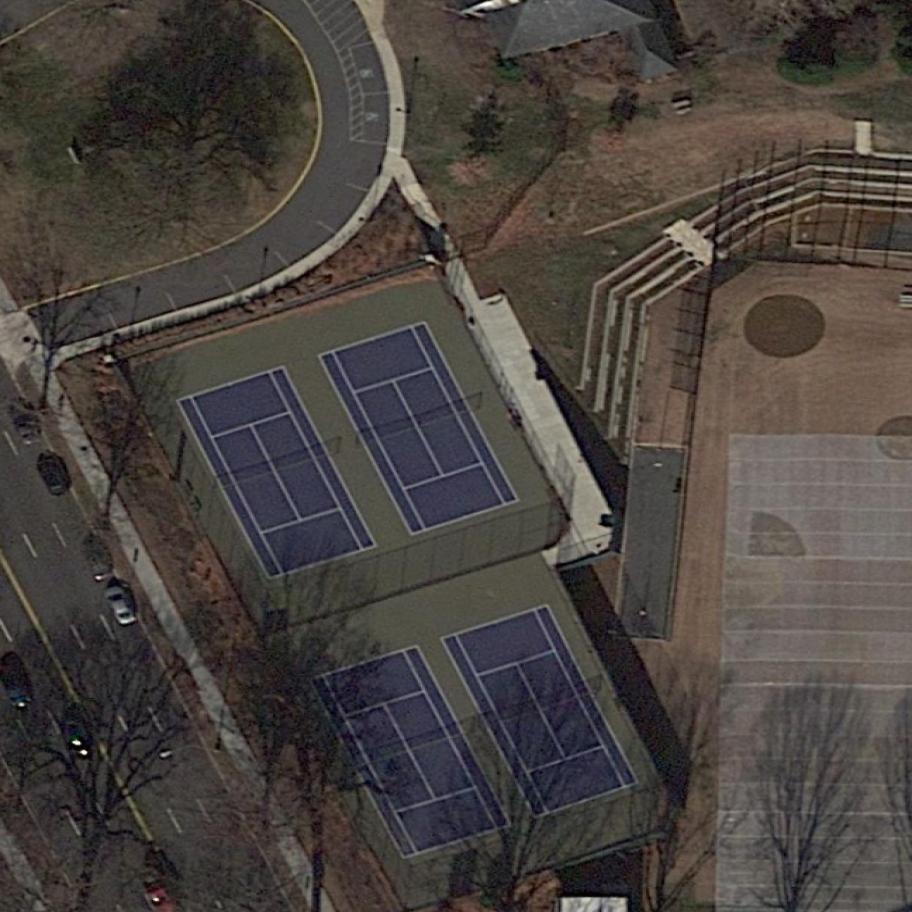small-vehicle: (51, 707, 99, 767), (31, 451, 75, 505), (100, 580, 141, 631)
